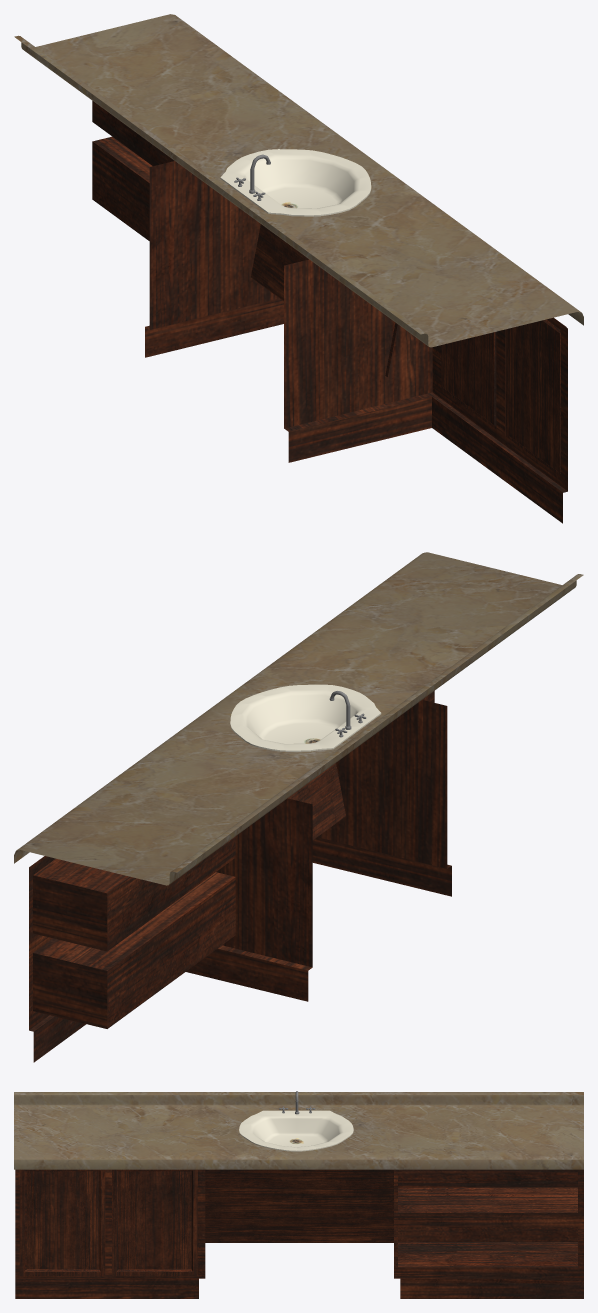
The model's file is Counter_Sink.fbx.
3 views of the same model, one above another, from view 1: azimuth 30°, elevation 25°; view 2: azimuth 150°, elevation 25°; view 3: azimuth 270°, elevation 25° (orthographic). The views are drawn at different scales.
Visible parts, largest first — view 1: Cube; view 2: Cube; view 3: Cube.
Boxes of the visible parts, bbox=[...] form: Cube: bbox=[14, 14, 583, 523]; Cube: bbox=[14, 552, 583, 1062]; Cube: bbox=[14, 1091, 583, 1298].
Bounding box in the file's own units: 110 × 159 × 475.
